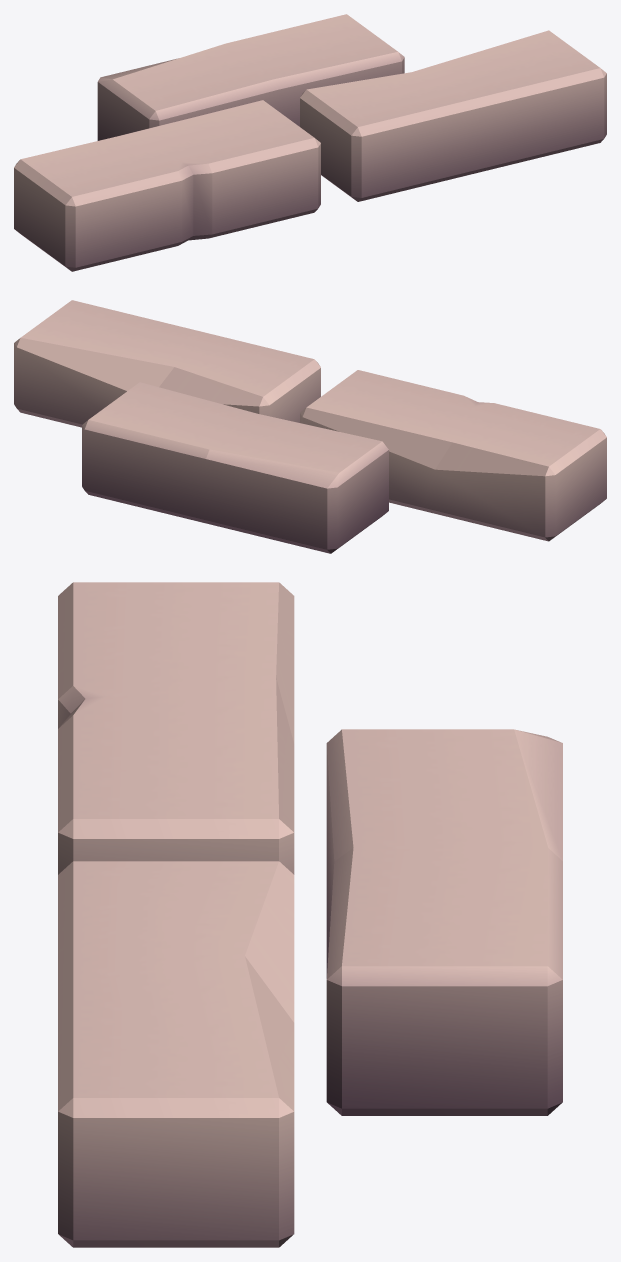
The model's file is rocks.fbx.
The picture shows the model from 3 angles, top to bottom: view 1: azimuth 30°, elevation 25°; view 2: azimuth 150°, elevation 25°; view 3: azimuth 270°, elevation 25°; orthographic projection. The views are drawn at different scales.
Visible parts, largest first — view 1: Cube.006; view 2: Cube.006; view 3: Cube.006.
Part boxes in pixels (x1,y1,x2,y2): Cube.006: (14, 14, 606, 271); Cube.006: (14, 300, 606, 553); Cube.006: (58, 582, 562, 1247).
Bounding box in the file's own units: 424 × 56 × 171.
